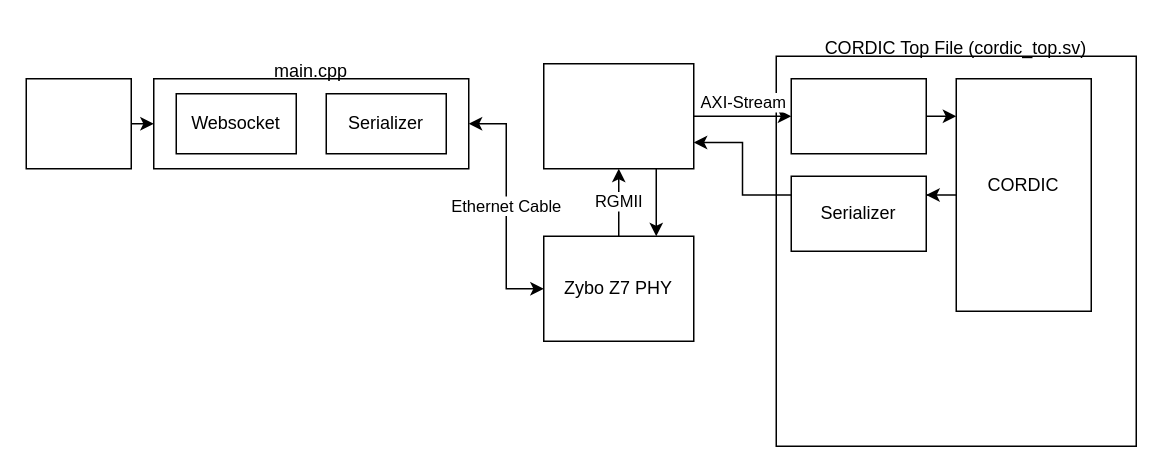
Image size: 1163x473. Some labels were removed from this diagram. The shapes that lost their labels are listed below. From the top down, each one's centre as x and y in pixels, then its label:
point 78,123: API
point 618,115: Gigabit Ethernet MAC
point 858,115: Parser
